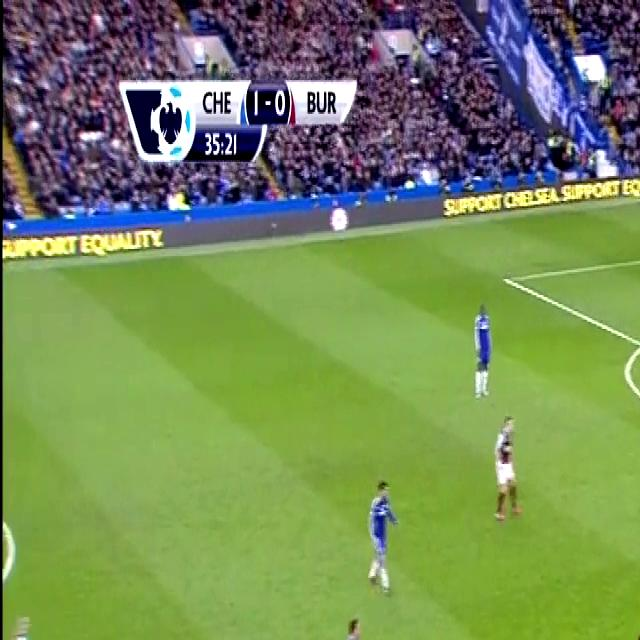soccer-player: (362, 468, 403, 602), (486, 405, 523, 530), (466, 290, 496, 404), (1, 597, 52, 640), (330, 608, 373, 640), (616, 620, 640, 640)
